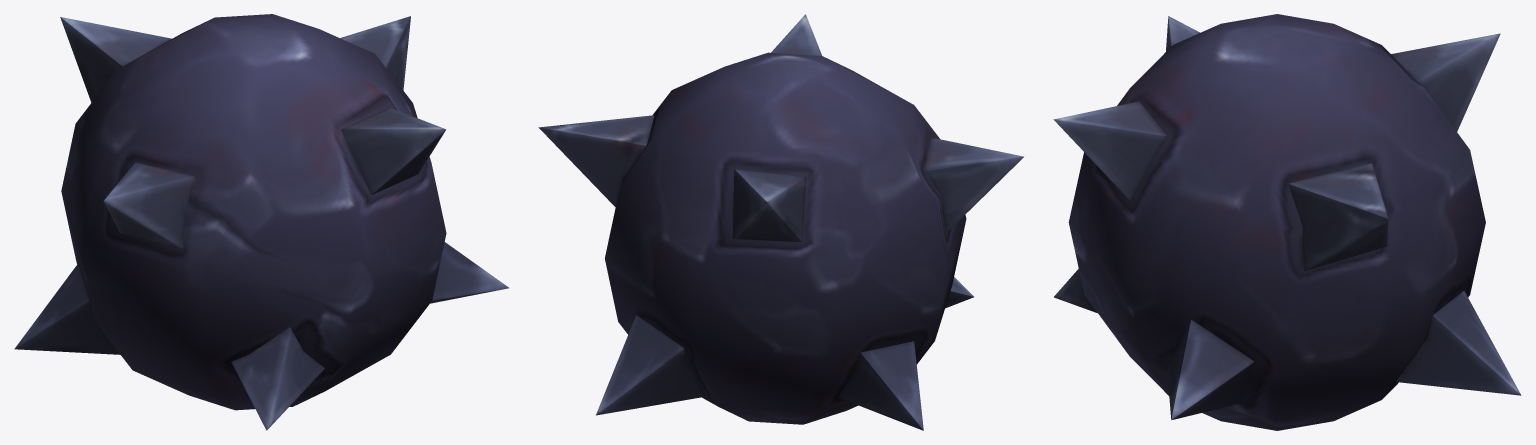
The model's file is bomb_01.fbx.
The picture shows the model from 3 angles, left to right: view 1: azimuth 30°, elevation 25°; view 2: azimuth 150°, elevation 25°; view 3: azimuth 270°, elevation 25°; orthographic projection. The views are drawn at different scales.
Visible parts, largest first — view 1: bomb_01; view 2: bomb_01; view 3: bomb_01.
Boxes of the visible parts, x1,y1,x2,y2 form: bomb_01: (14,14,509,430); bomb_01: (538,14,1023,430); bomb_01: (1053,14,1521,430).
Bounding box in the file's own units: 0.7195 × 0.6021 × 0.6755.
